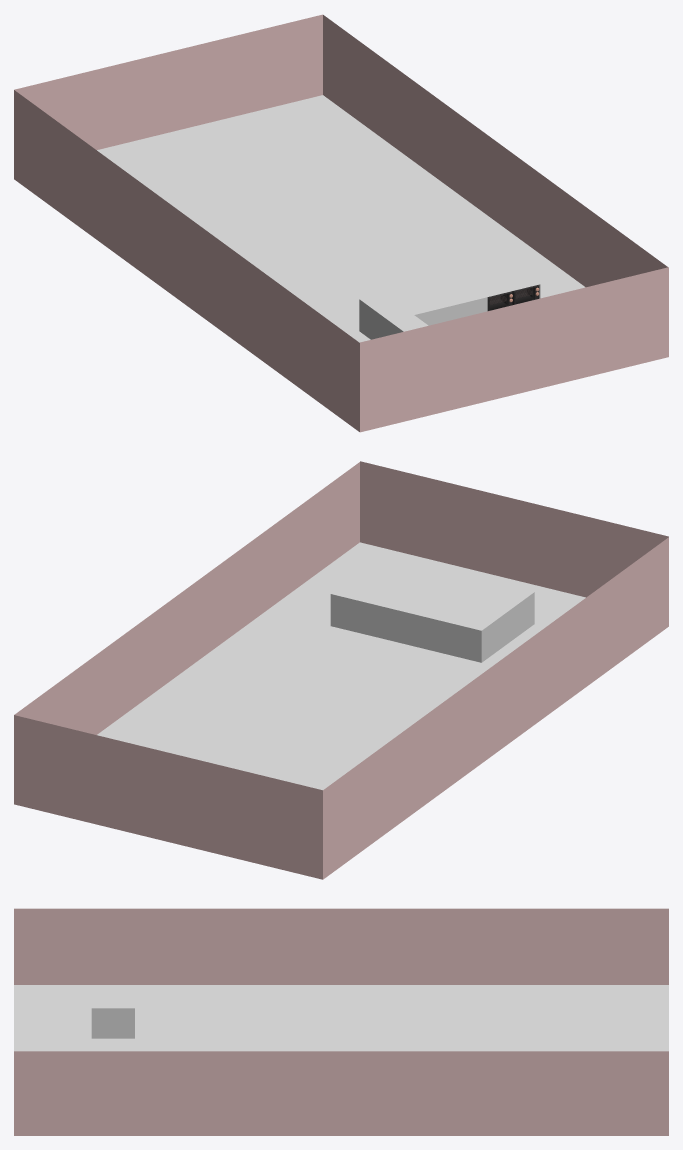
Rendered from boulangerie.fbx.
The picture shows the model from 3 angles, top to bottom: view 1: azimuth 30°, elevation 25°; view 2: azimuth 150°, elevation 25°; view 3: azimuth 270°, elevation 25°; orthographic projection. The views are drawn at different scales.
Visible parts, largest first — view 1: salle, plan-de-travail; view 2: salle, plan-de-travail; view 3: salle, plan-de-travail.
Part boxes in pixels (<box>): salle: <box>14,14,668,432</box>; plan-de-travail: <box>359,262,540,339</box>; salle: <box>14,461,668,879</box>; plan-de-travail: <box>330,572,534,662</box>; salle: <box>14,908,668,1135</box>; plan-de-travail: <box>91,996,191,1051</box>.
Size of the model in its own units: 1808 by 503 by 3507.
